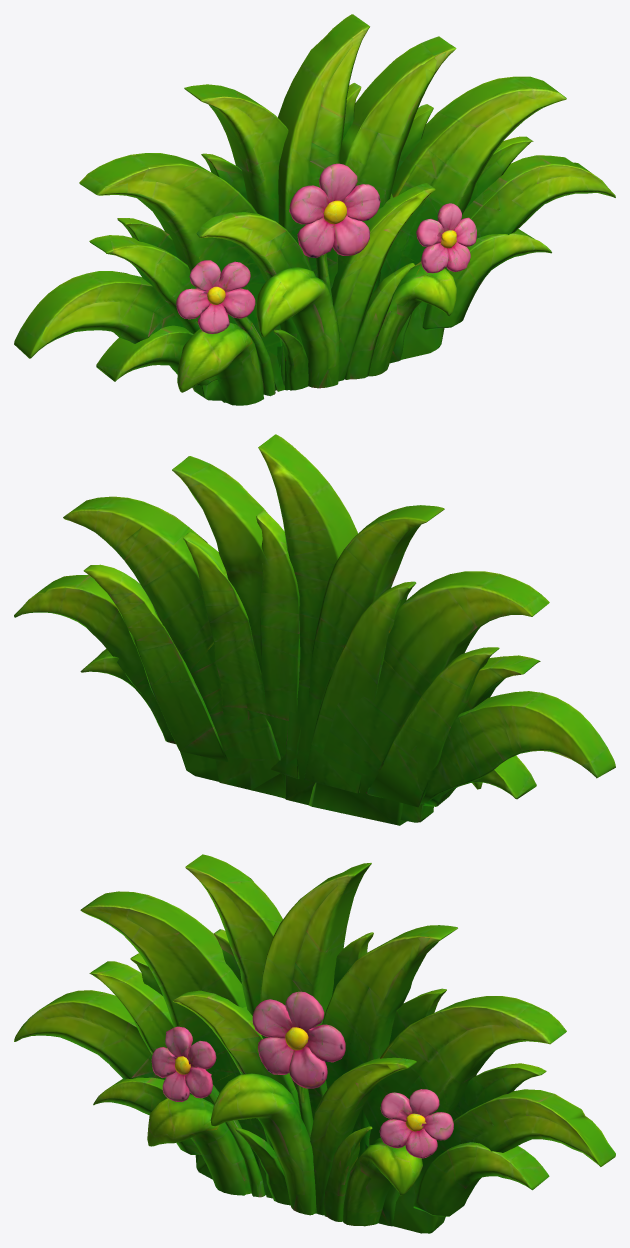
File: grassclump.glb
3 views of the same model, one above another, from view 1: azimuth 30°, elevation 25°; view 2: azimuth 150°, elevation 25°; view 3: azimuth 330°, elevation 25° (orthographic).
Parts seen in each view (by area): view 1: geometry_0; view 2: geometry_0; view 3: geometry_0.
Boxes of the visible parts, <box> form: geometry_0: <box>14,14,615,405</box>; geometry_0: <box>14,434,615,825</box>; geometry_0: <box>14,854,615,1233</box>.
Size of the model in its own units: 0.9575 by 0.5396 by 0.1069.
Materials: 1 (1 with a texture image).
